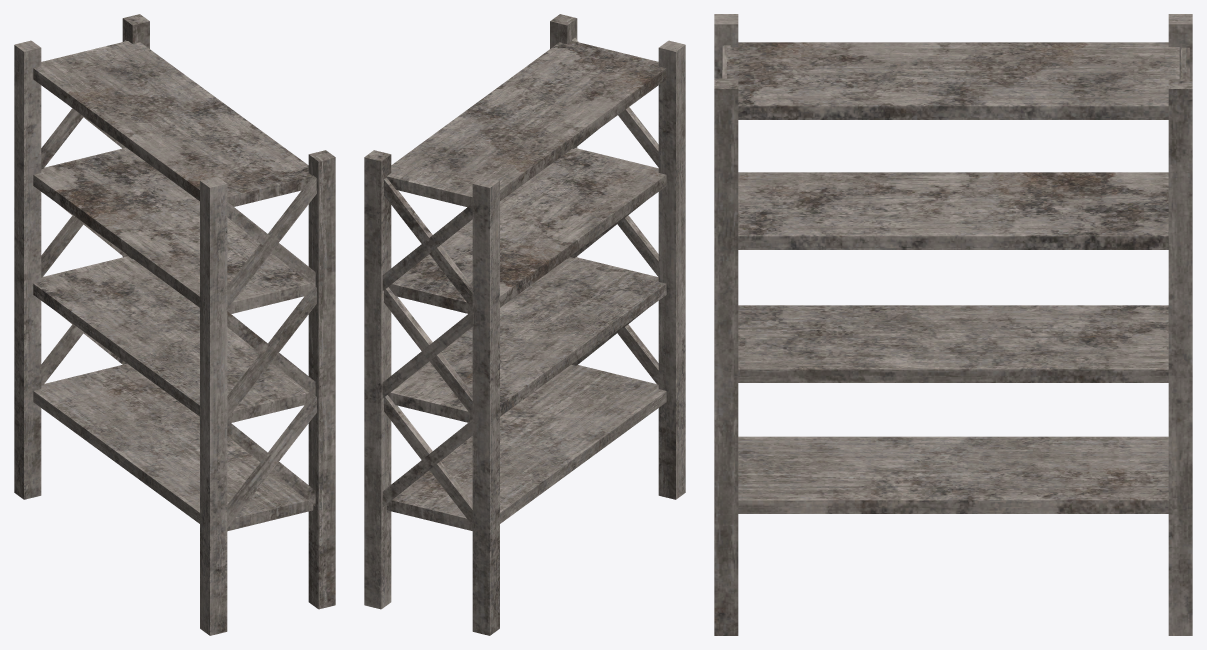
The model's file is SM_Shelf.FBX.
3 renders of one model, left to right at view 1: azimuth 30°, elevation 25°; view 2: azimuth 150°, elevation 25°; view 3: azimuth 270°, elevation 25°, orthographic. The views are drawn at different scales.
Parts seen in each view (by area): view 1: SM_Shelf; view 2: SM_Shelf; view 3: SM_Shelf.
Boxes of the visible parts, left/top/right/bottom form: SM_Shelf: left=14, top=14, right=335, bottom=635; SM_Shelf: left=364, top=14, right=685, bottom=635; SM_Shelf: left=714, top=14, right=1192, bottom=635.
Size of the model in its own units: 58.76 by 200 by 159.
